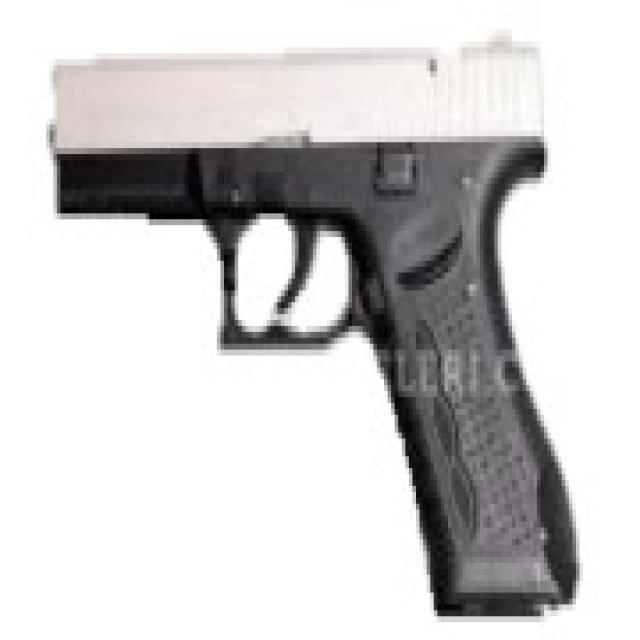pistol: (47, 27, 599, 633)
